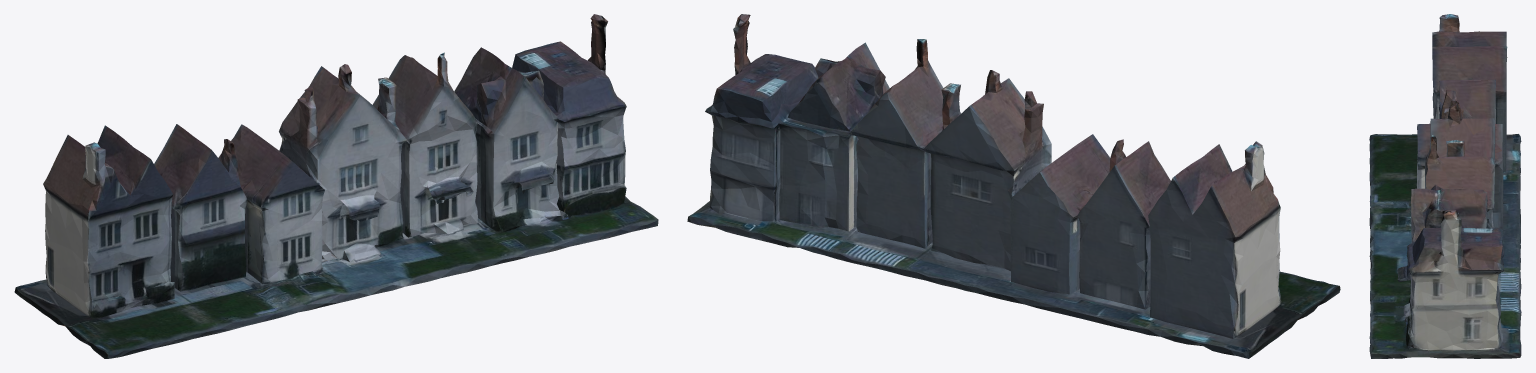
File: terrace_row.glb
The picture shows the model from 3 angles, left to right: view 1: azimuth 30°, elevation 25°; view 2: azimuth 150°, elevation 25°; view 3: azimuth 270°, elevation 25°; orthographic projection. The views are drawn at different scales.
Visible parts, largest first — view 1: m; view 2: m; view 3: m.
Part boxes in pixels (left/top/right/bottom): m: left=14, top=14, right=658, bottom=358; m: left=687, top=14, right=1340, bottom=358; m: left=1369, top=14, right=1521, bottom=358.
Bounding box in the file's own units: 27.88 × 9 × 8.13.
Materials: 1 (1 with a texture image).
